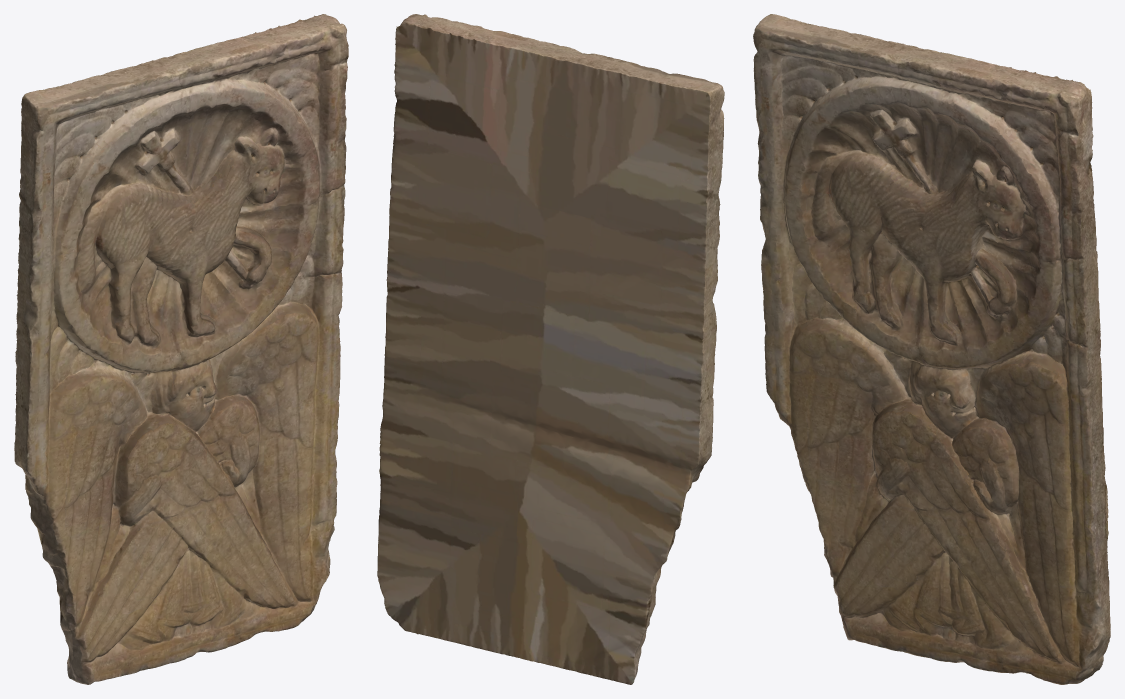
File: preview.glb
3 renders of one model, left to right at view 1: azimuth 30°, elevation 25°; view 2: azimuth 150°, elevation 25°; view 3: azimuth 330°, elevation 25°, orthographic. The views are drawn at different scales.
Parts seen in each view (by area): view 1: ADVIMG_25_120_574_LambOfGodAndCherub_MASTER2_n3d; view 2: ADVIMG_25_120_574_LambOfGodAndCherub_MASTER2_n3d; view 3: ADVIMG_25_120_574_LambOfGodAndCherub_MASTER2_n3d.
Part boxes in pixels (bbox=[...]): ADVIMG_25_120_574_LambOfGodAndCherub_MASTER2_n3d: bbox=[14, 14, 348, 684]; ADVIMG_25_120_574_LambOfGodAndCherub_MASTER2_n3d: bbox=[377, 14, 724, 684]; ADVIMG_25_120_574_LambOfGodAndCherub_MASTER2_n3d: bbox=[753, 14, 1110, 684].
Size of the model in its own units: 0.3707 by 0.6732 by 0.0753.
Materials: 1 (1 with a texture image).
